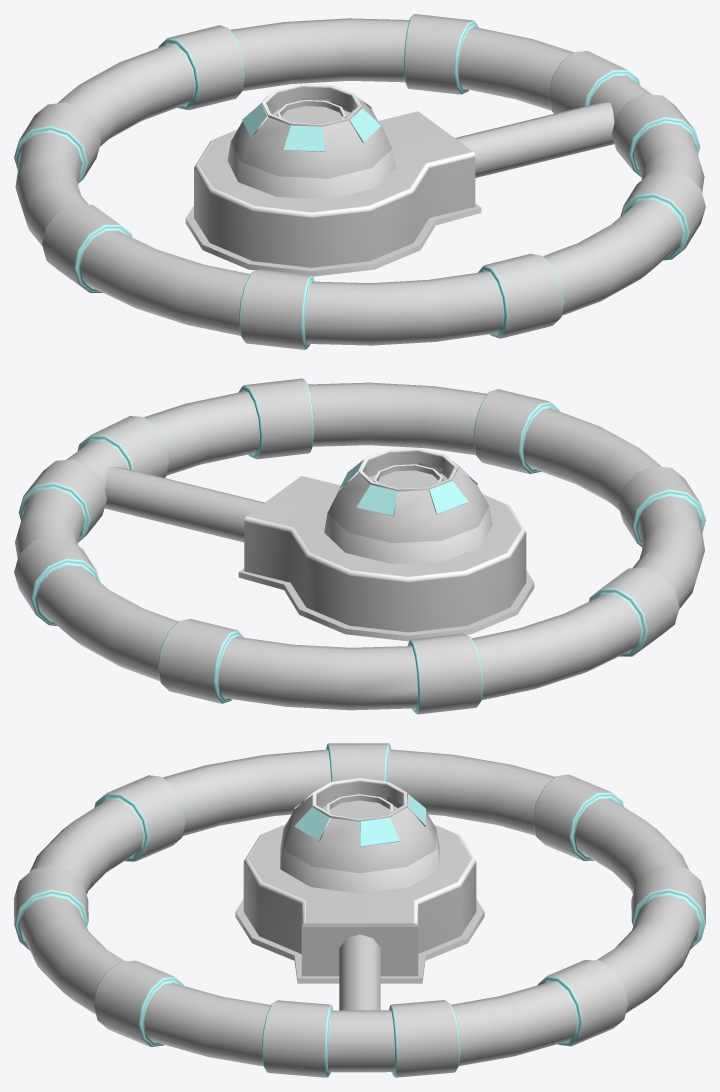
File: buildings1.fbx
3 views of the same model, one above another, from view 1: azimuth 30°, elevation 25°; view 2: azimuth 150°, elevation 25°; view 3: azimuth 270°, elevation 25° (orthographic).
Parts seen in each view (by area): view 1: pCylinder3; view 2: pCylinder3; view 3: pCylinder3.
Boxes of the visible parts, left/top/right/bottom form: pCylinder3: left=14, top=14, right=705, bottom=349; pCylinder3: left=14, top=378, right=705, bottom=714; pCylinder3: left=14, top=743, right=705, bottom=1077.
Size of the model in its own units: 82.08 by 16.03 by 82.21.
